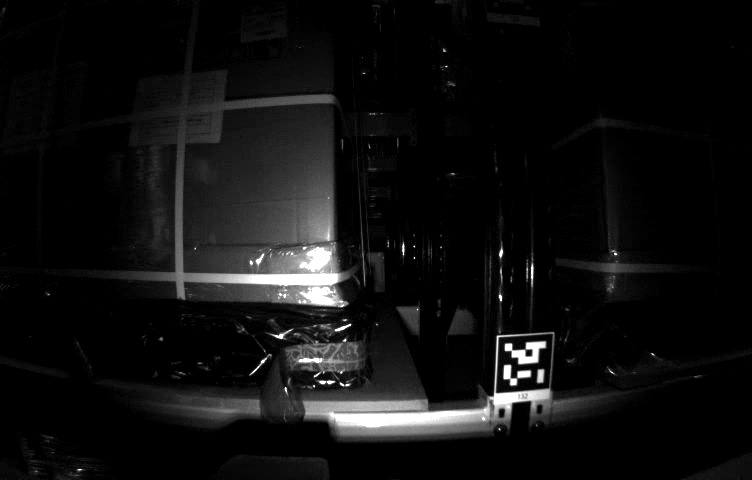True Barcode: (239, 1, 284, 35)
